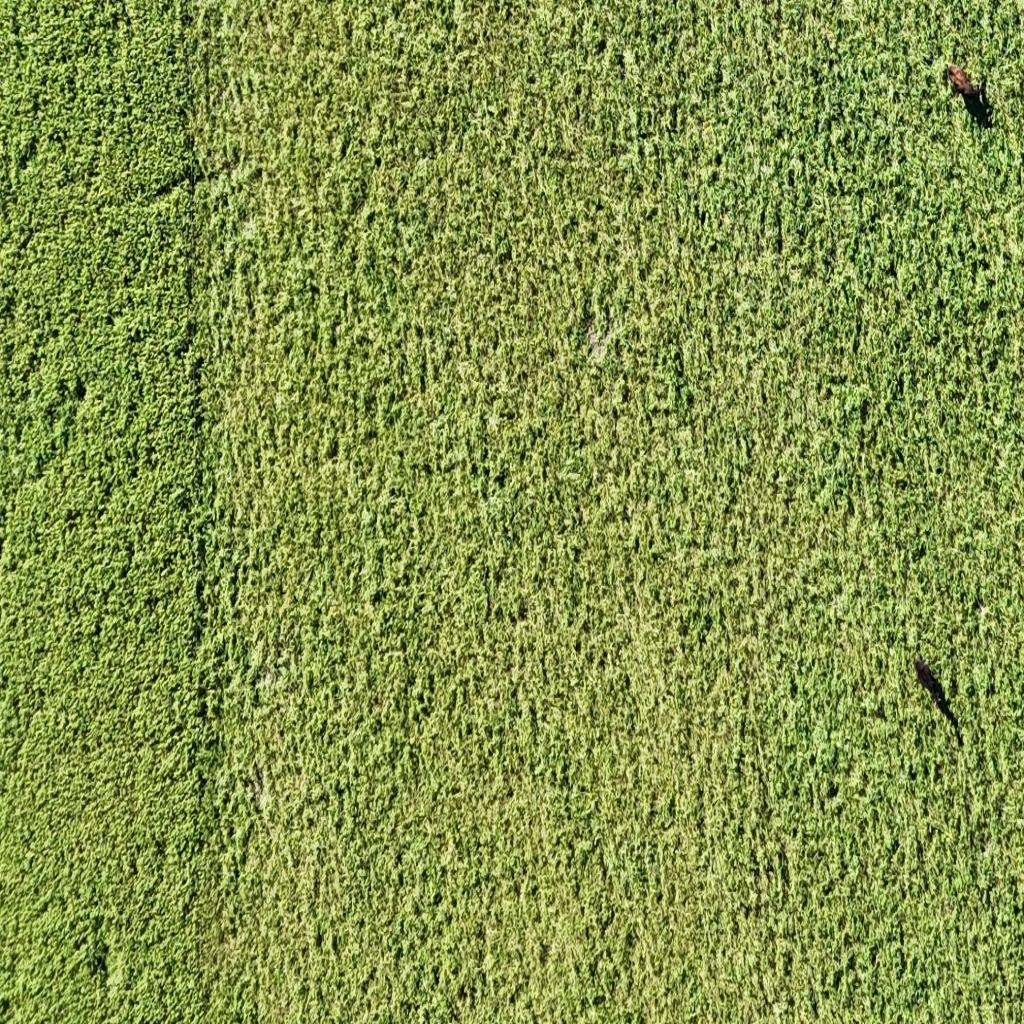cow: (946, 65, 983, 114), (914, 656, 946, 708)
